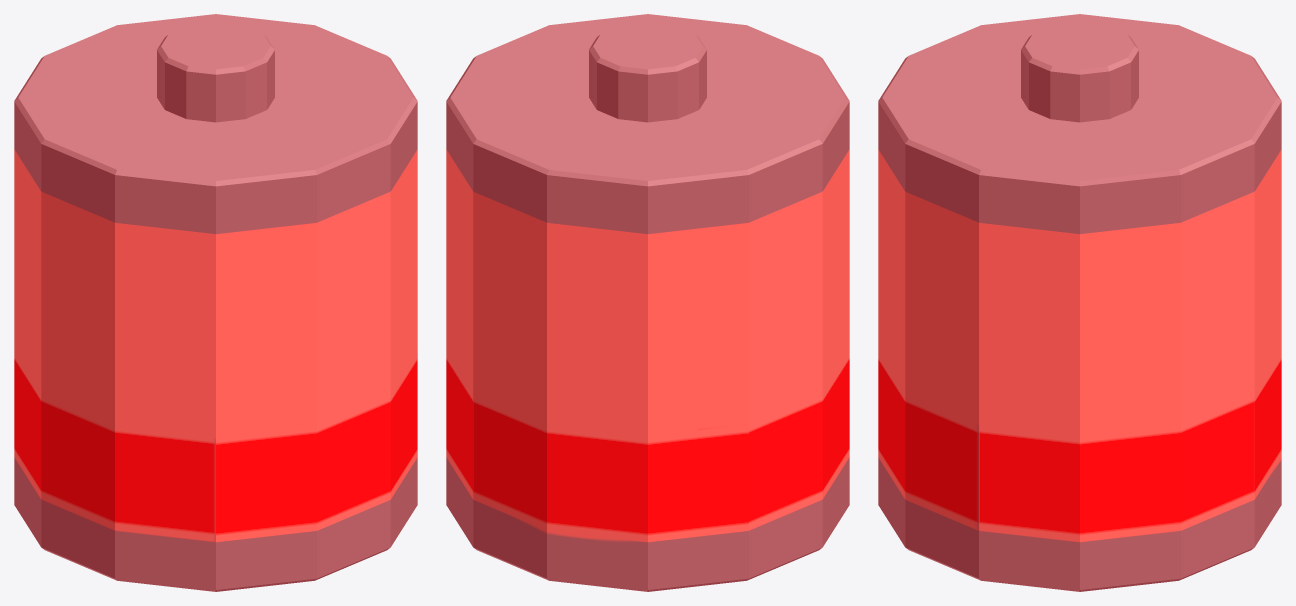
The model's file is battery_empty.glb.
3 views of the same model, side by side, from view 1: azimuth 30°, elevation 25°; view 2: azimuth 150°, elevation 25°; view 3: azimuth 270°, elevation 25° (orthographic).
Parts seen in each view (by area): view 1: battery low merged; view 2: battery low merged; view 3: battery low merged.
Part boxes in pixels (x1,y1,x2,y2): battery low merged: (14,14,417,591); battery low merged: (446,14,849,591); battery low merged: (878,14,1281,591).
Size of the model in its own units: 0.7122 by 0.9 by 0.7122.
Materials: 1 (1 with a texture image).
